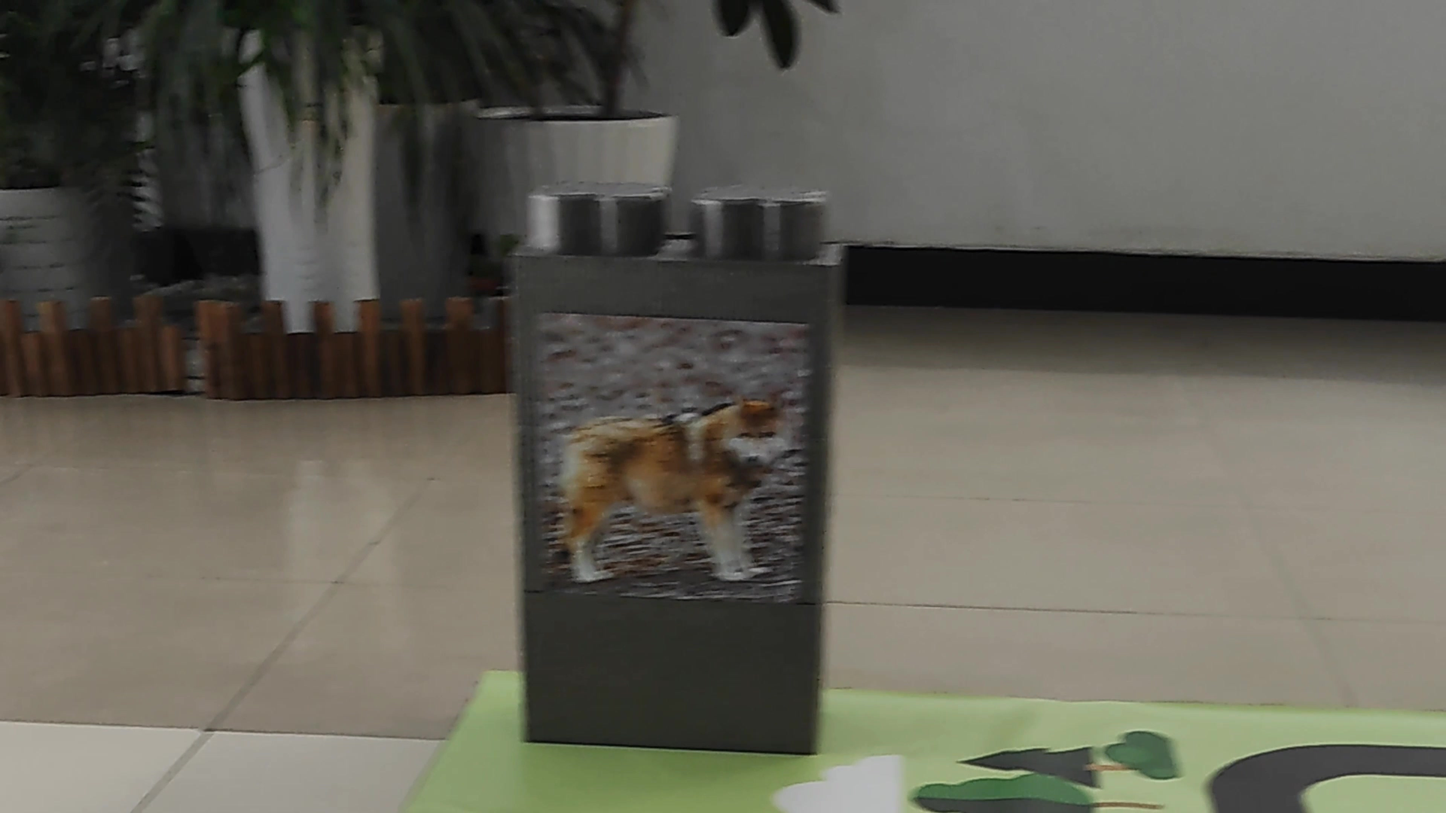wolf: (538, 375, 797, 607)
